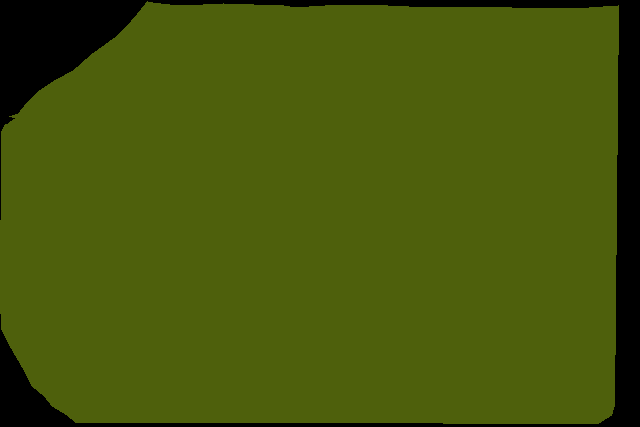Train: (0, 1, 618, 424)
